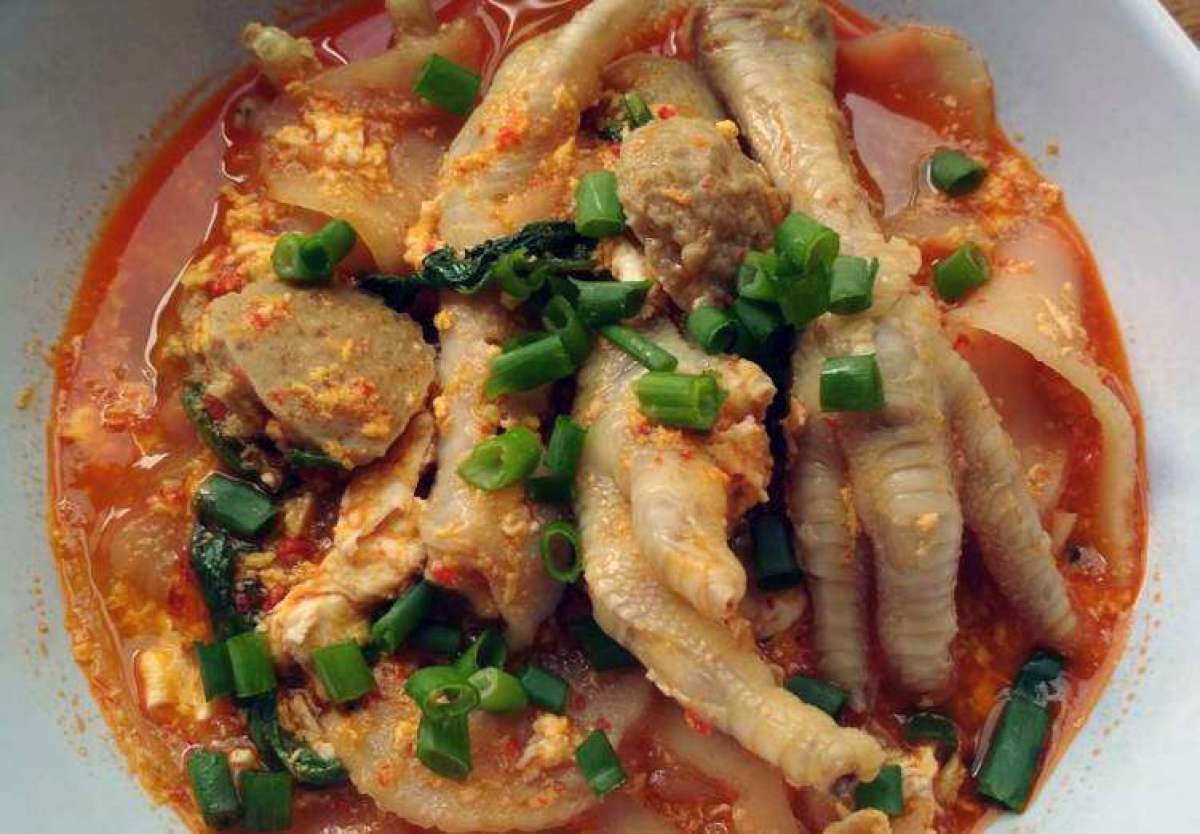seblak: (55, 1, 1142, 834)
